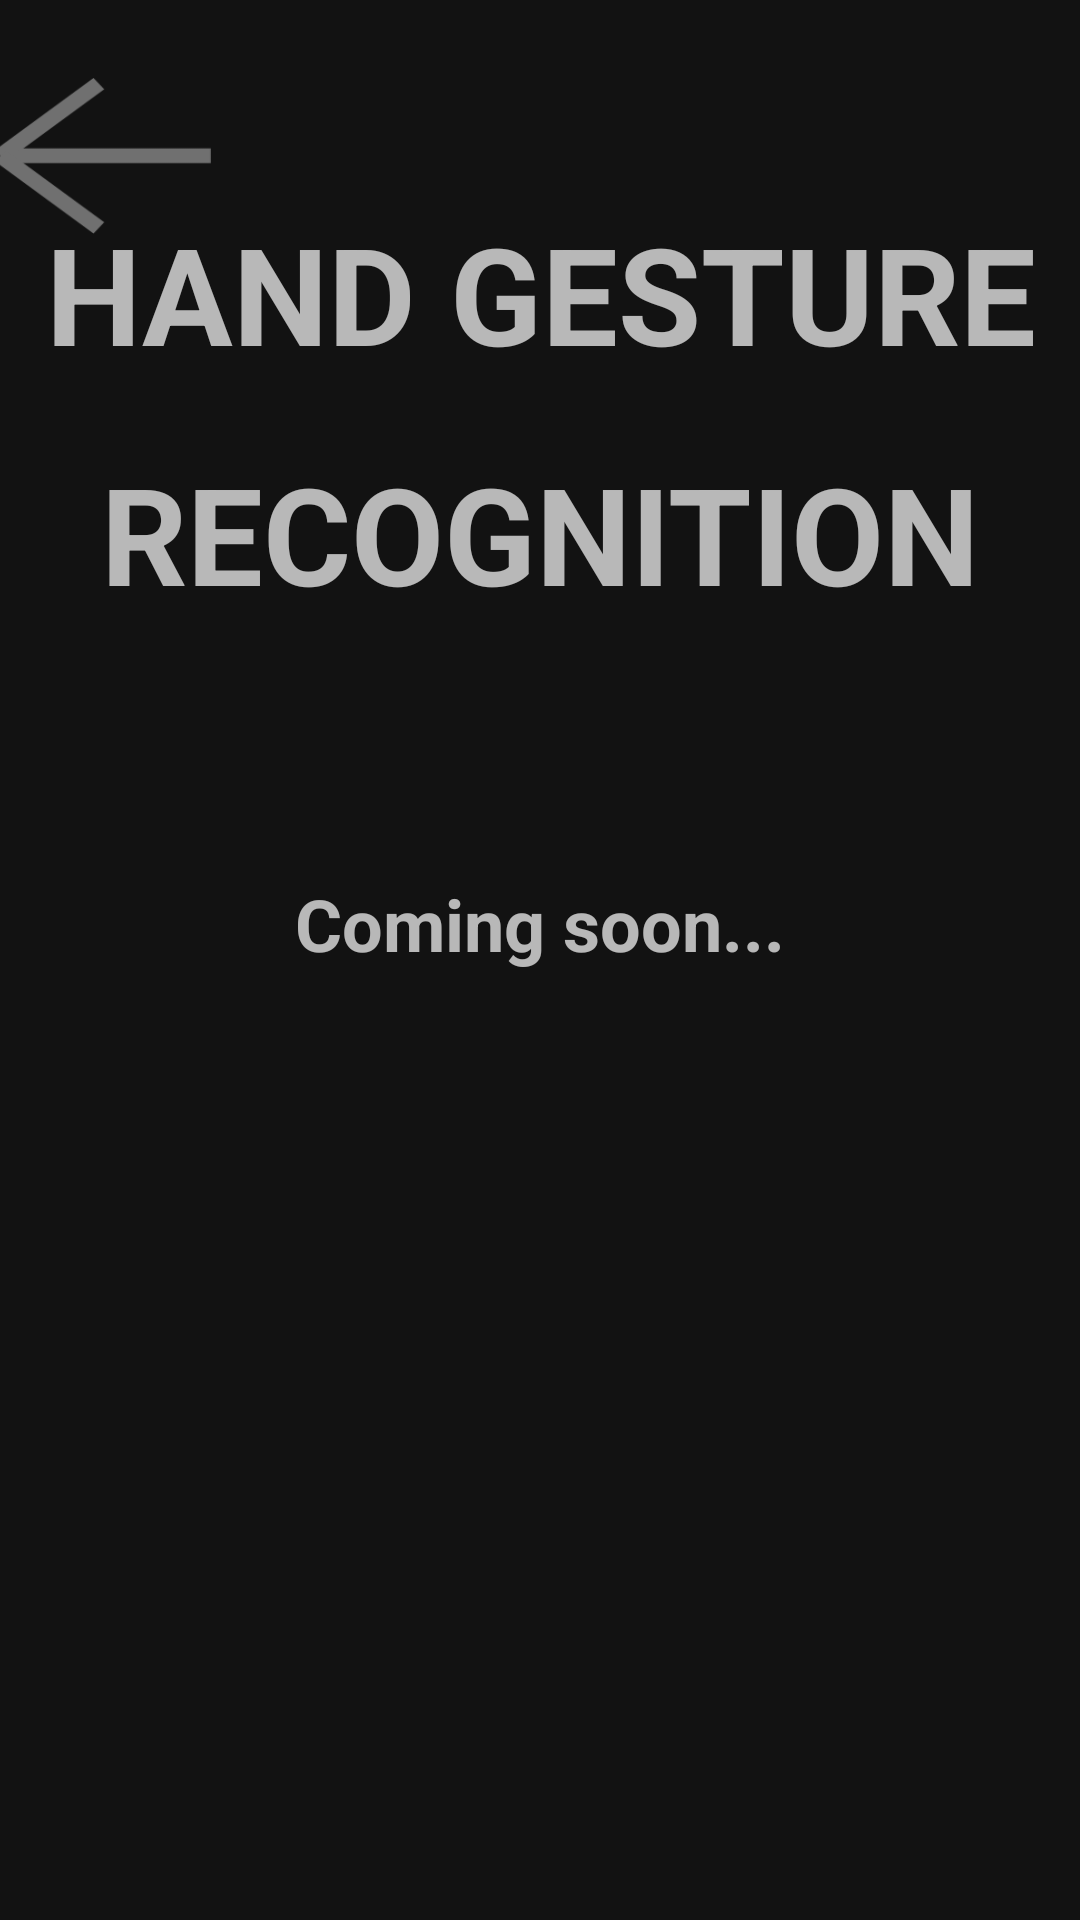

Icons on this 1080×1920 Android screen, each with the point to tap as [x,y]:
arrow: [105,155]
